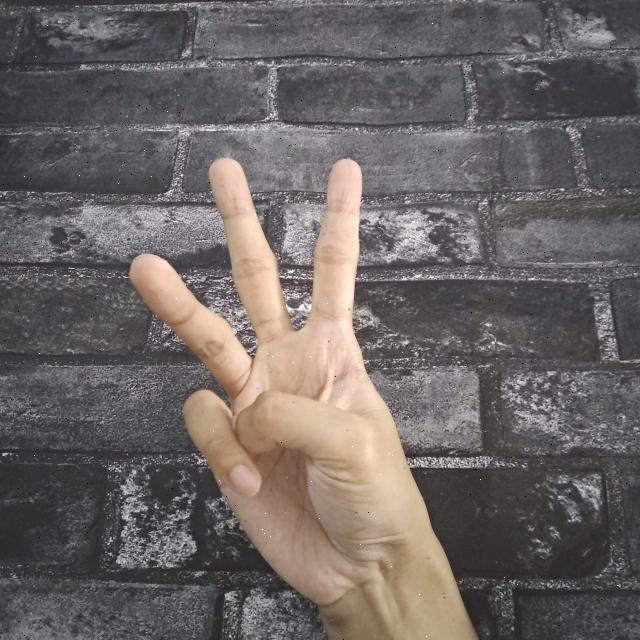W: (121, 150, 483, 640)
